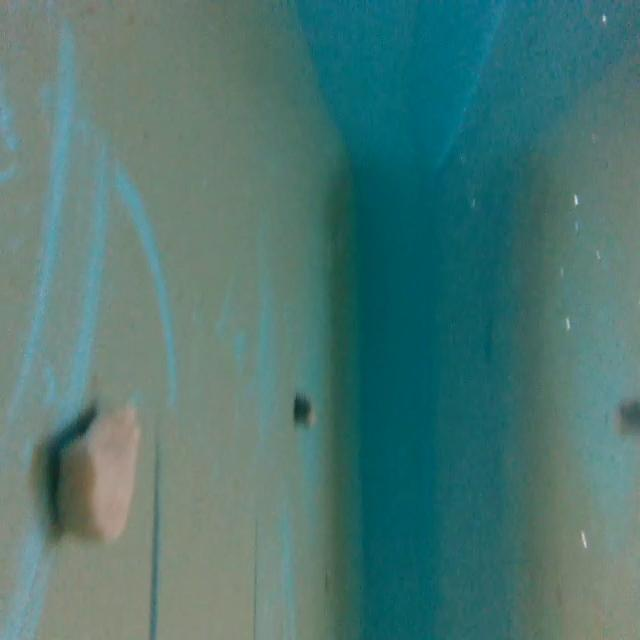rock: (46, 404, 148, 546)
